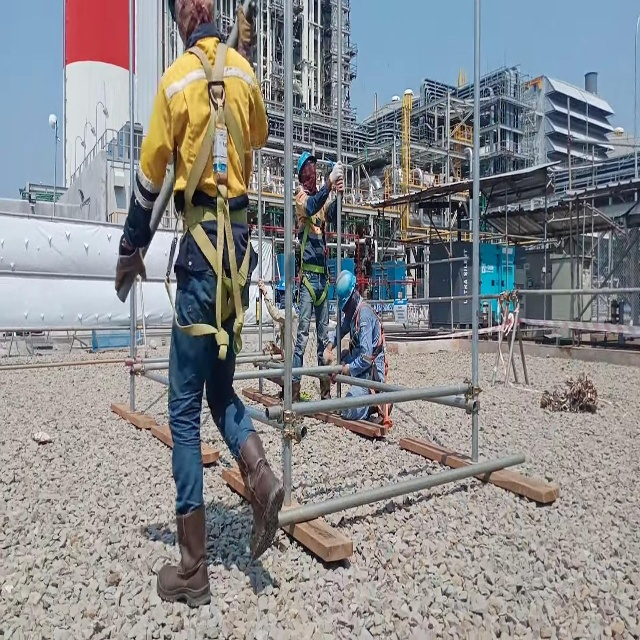Arnes_seguridad: (164, 36, 255, 359), (352, 290, 395, 437), (297, 207, 331, 311)
